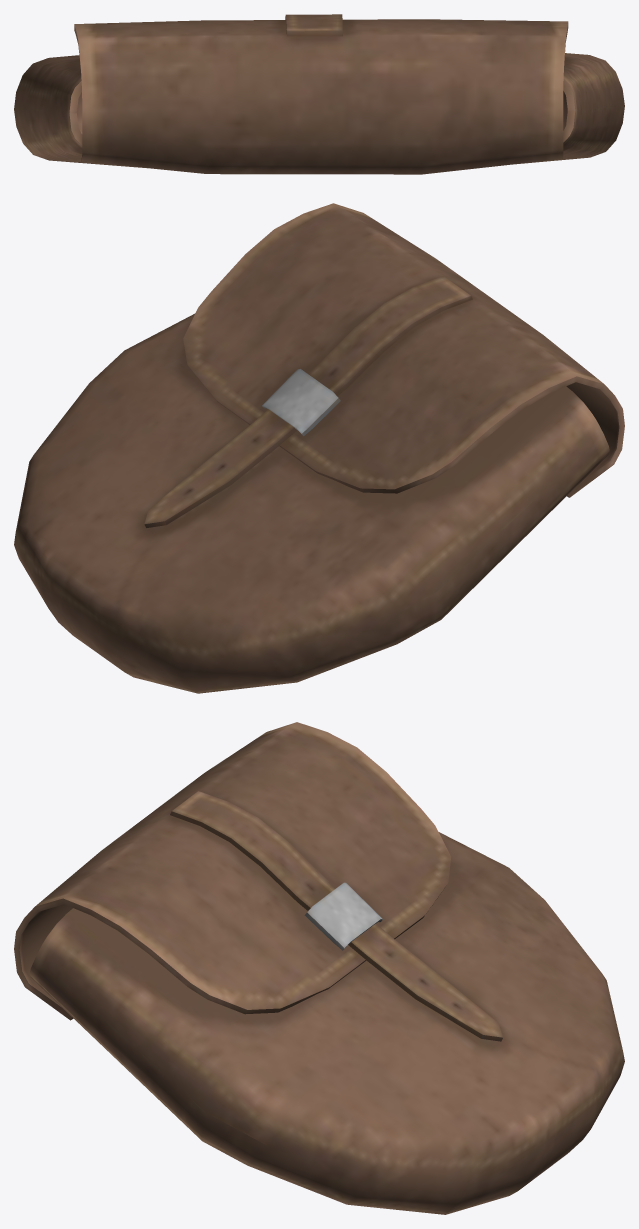
3 views of the same model, one above another, from view 1: azimuth 30°, elevation 25°; view 2: azimuth 150°, elevation 25°; view 3: azimuth 270°, elevation 25° (orthographic). The views are drawn at different scales.
Parts seen in each view (by area): view 1: Leather bag; view 2: Leather bag; view 3: Leather bag.
Boxes of the visible parts, bbox=[...] form: Leather bag: bbox=[14, 14, 624, 174]; Leather bag: bbox=[14, 203, 624, 693]; Leather bag: bbox=[14, 722, 624, 1214].
Size of the model in its own units: 16.04 by 8.3 by 15.76.
Materials: 1 (1 with a texture image).
